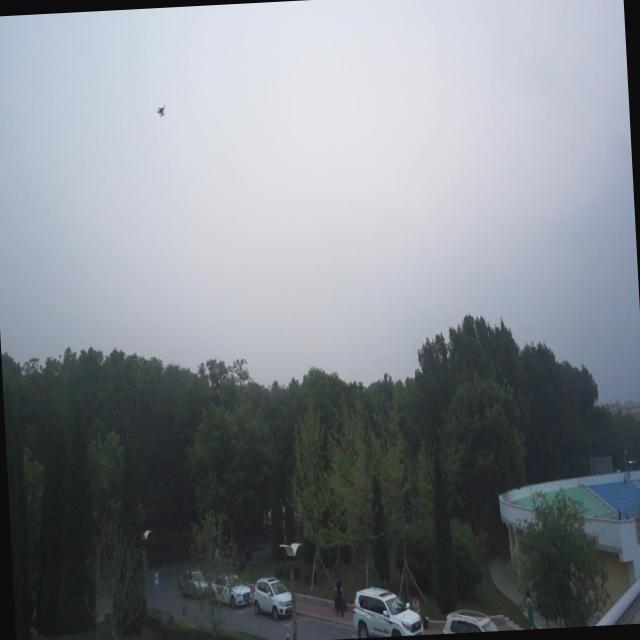drone: (154, 101, 168, 120)
